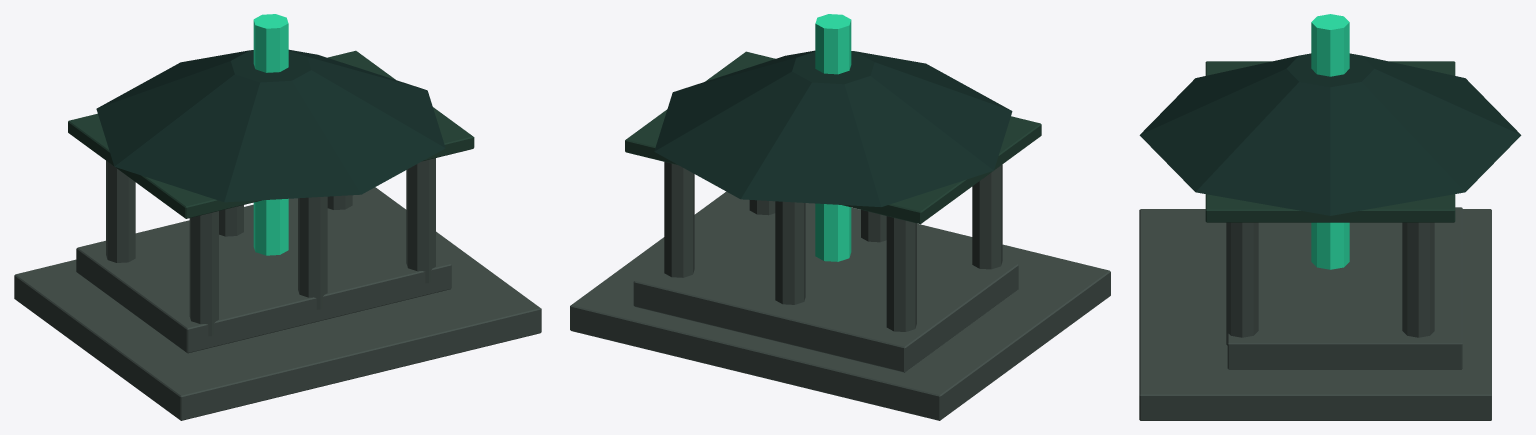
File: LumenVeilfallSanctuaryV2.glb
3 views of the same model, side by side, from view 1: azimuth 30°, elevation 25°; view 2: azimuth 150°, elevation 25°; view 3: azimuth 270°, elevation 25° (orthographic). The views are drawn at different scales.
Parts seen in each view (by area): view 1: LumenVeilfallSanctuaryV2; view 2: LumenVeilfallSanctuaryV2; view 3: LumenVeilfallSanctuaryV2.
Part boxes in pixels (bbox=[...]): LumenVeilfallSanctuaryV2: bbox=[14, 14, 541, 420]; LumenVeilfallSanctuaryV2: bbox=[570, 14, 1110, 420]; LumenVeilfallSanctuaryV2: bbox=[1139, 14, 1521, 420].
Bounding box in the file's own units: 30 × 23 × 26.
Materials: 1 (1 with a texture image).
